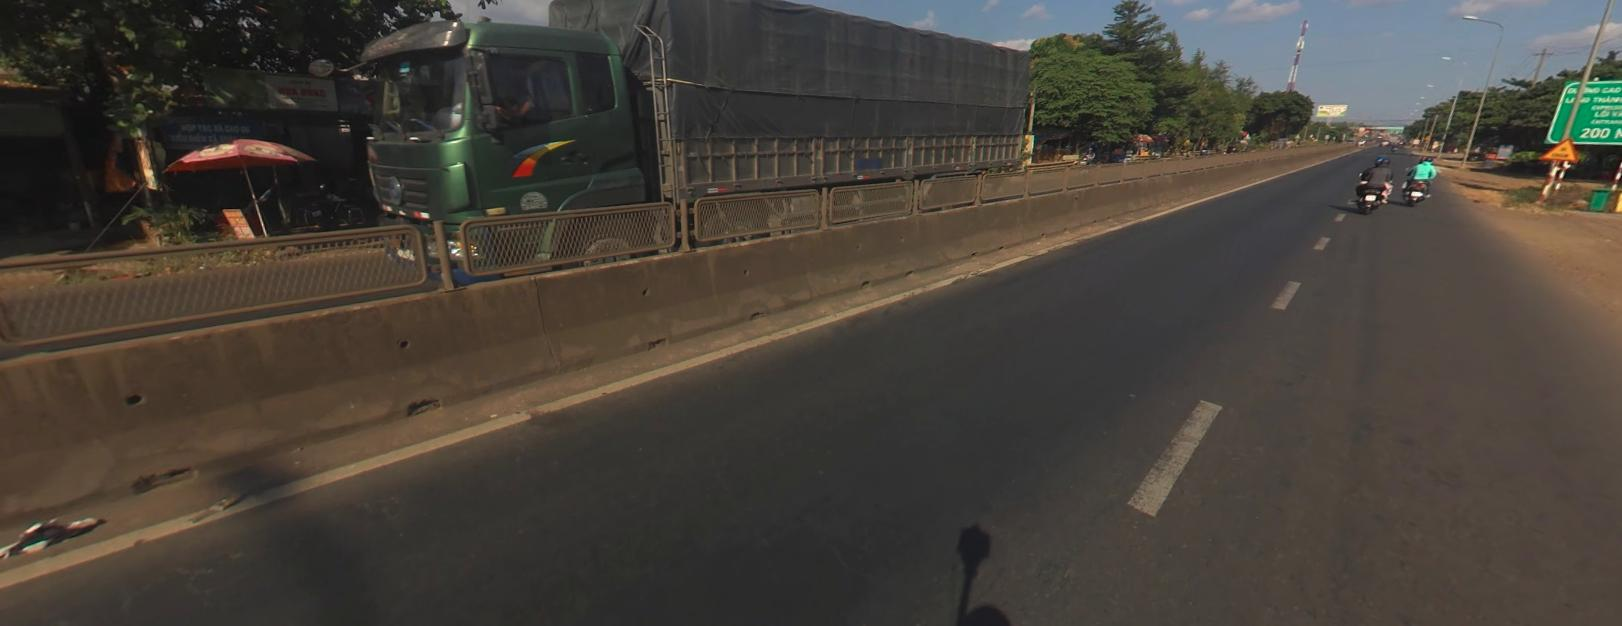Nguy hiem: (1538, 136, 1578, 160)
